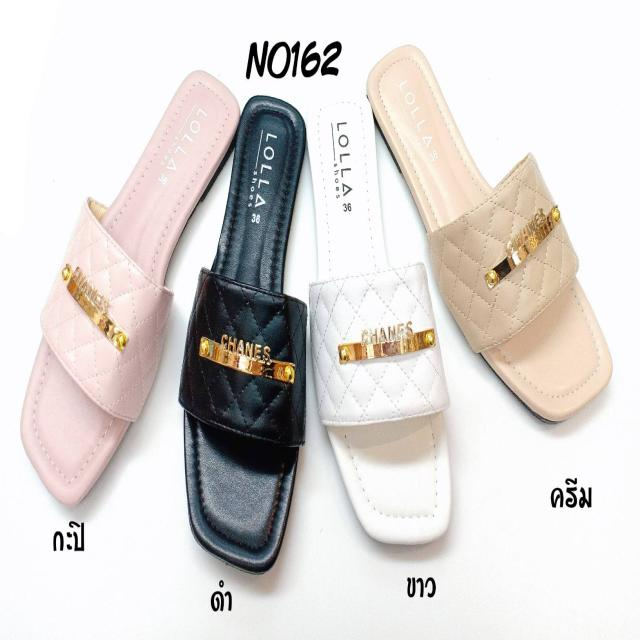black: (181, 93, 310, 567)
cream: (370, 48, 608, 427)
kapi: (17, 61, 239, 508)
white: (303, 85, 452, 530)
